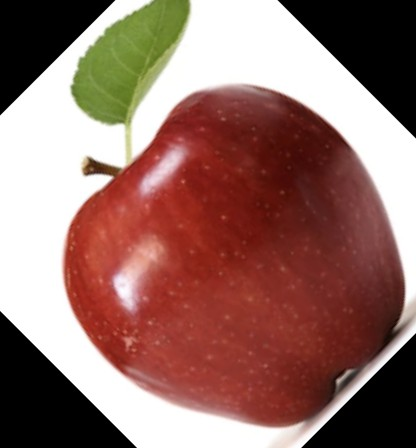fresh_apple: (63, 82, 409, 429)
